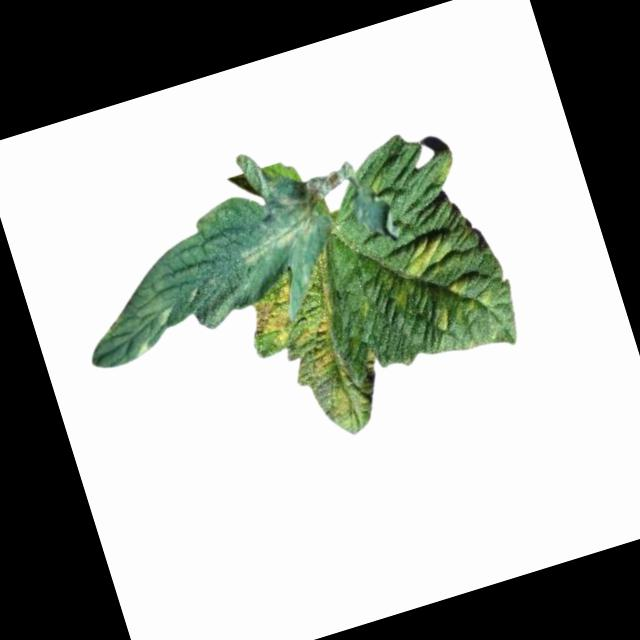Leaf_Mold: (226, 175, 334, 269), (295, 307, 365, 436), (243, 279, 307, 352), (396, 233, 455, 284), (449, 276, 477, 300)
